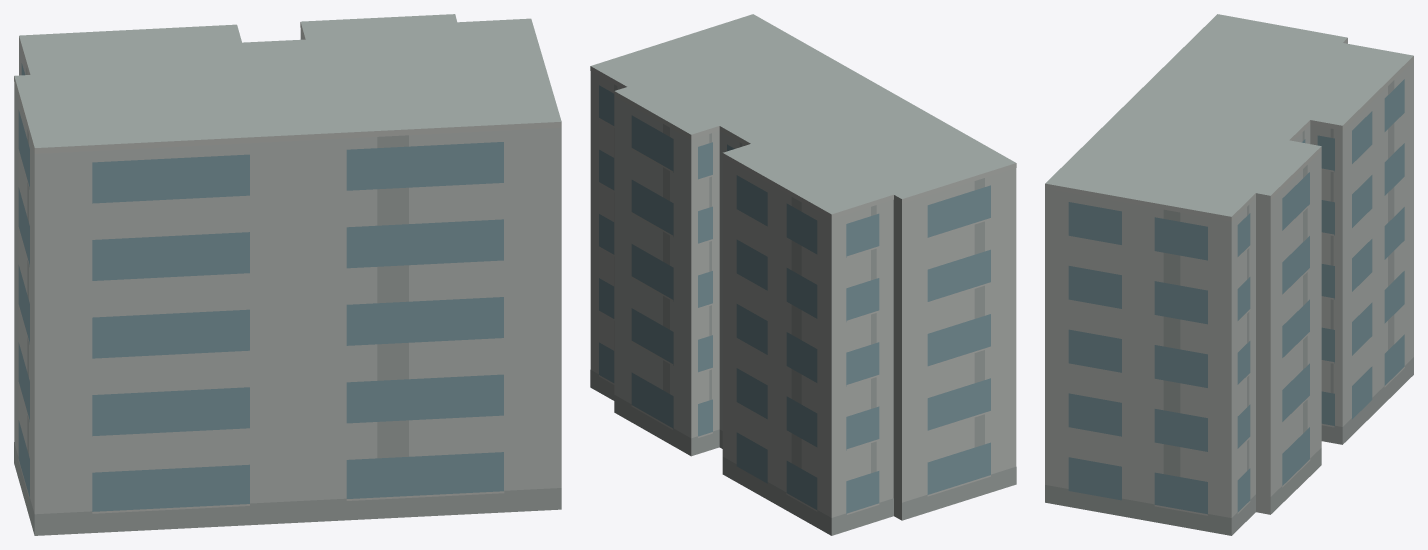
The model's file is survey-upis-32530876.glb.
3 renders of one model, left to right at view 1: azimuth 30°, elevation 25°; view 2: azimuth 150°, elevation 25°; view 3: azimuth 270°, elevation 25°, orthographic. The views are drawn at different scales.
Parts seen in each view (by area): view 1: survey-upis-32530876.tmp; view 2: survey-upis-32530876.tmp; view 3: survey-upis-32530876.tmp.
Part boxes in pixels (bbox=[...]): survey-upis-32530876.tmp: bbox=[14, 14, 561, 535]; survey-upis-32530876.tmp: bbox=[590, 14, 1016, 535]; survey-upis-32530876.tmp: bbox=[1045, 14, 1413, 535].
Size of the model in its own units: 21.82 by 16 by 16.77.
